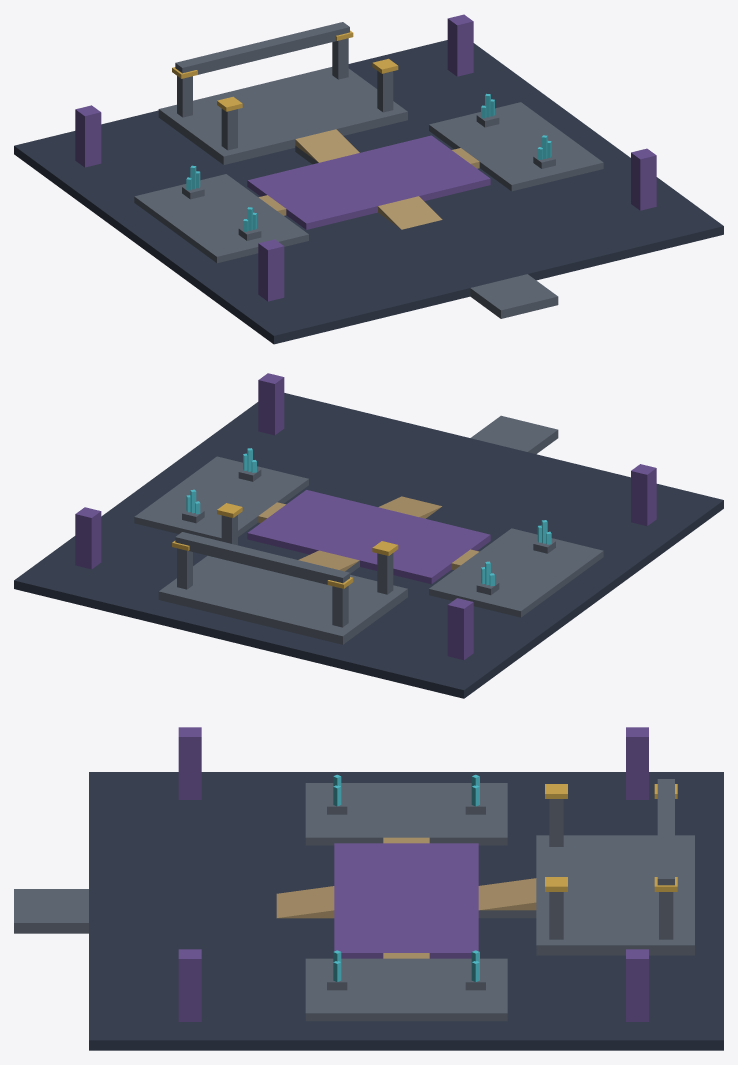
The model's file is Ashen.glb.
3 renders of one model, top to bottom at view 1: azimuth 30°, elevation 25°; view 2: azimuth 150°, elevation 25°; view 3: azimuth 270°, elevation 25°, orthographic. The views are drawn at different scales.
Visible parts, largest first — view 1: Island, BossSanctum, CentralSanctum, SideCourt.001, SideCourt, WardenArch, Landing, BrokenSpire, BrokenSpire.002, BrokenSpire.001, BrokenSpire.003, SanctumAscent (+5 smaller); view 2: Island, CentralSanctum, BossSanctum, SideCourt, SideCourt.001, WardenArch, Landing, BrokenSpire, BrokenSpire.002, BrokenSpire.003, BrokenSpire.001, SanctumAscent (+4 smaller); view 3: Island, CentralSanctum, BossSanctum, SideCourt.001, SideCourt, Landing, WardenArch, BrokenSpire.001, BrokenSpire.003, SanctumAscent, WardenAscent, BrokenSpire (+5 smaller).
Boxes of the visible parts, <box> form: Island: <box>14,40,723,344</box>; BossSanctum: <box>158,67,407,164</box>; CentralSanctum: <box>247,135,490,229</box>; SideCourt.001: <box>429,102,603,191</box>; SideCourt: <box>134,174,308,263</box>; WardenArch: <box>175,22,349,74</box>; Landing: <box>470,274,558,318</box>; BrokenSpire: <box>75,105,101,167</box>; BrokenSpire.002: <box>447,14,473,76</box>; BrokenSpire.001: <box>258,239,284,301</box>; BrokenSpire.003: <box>631,148,656,210</box>; SanctumAscent: <box>378,196,442,229</box>; Island: <box>14,393,723,698</box>; CentralSanctum: <box>247,490,490,584</box>; BossSanctum: <box>158,555,407,644</box>; SideCourt: <box>429,528,603,617</box>; SideCourt.001: <box>134,456,308,541</box>; WardenArch: <box>175,532,349,584</box>; Landing: <box>470,415,558,454</box>; BrokenSpire: <box>447,598,473,660</box>; BrokenSpire.002: <box>75,507,101,569</box>; BrokenSpire.003: <box>258,373,284,435</box>; BrokenSpire.001: <box>631,464,656,525</box>; SanctumAscent: <box>378,496,441,518</box>; Island: <box>89,772,723,1050</box>; CentralSanctum: <box>334,843,478,958</box>; BossSanctum: <box>536,835,694,955</box>; SideCourt.001: <box>305,958,507,1021</box>; SideCourt: <box>305,783,507,845</box>; Landing: <box>14,889,88,933</box>; WardenArch: <box>657,779,674,885</box>; BrokenSpire.001: <box>178,727,201,799</box>; BrokenSpire.003: <box>178,949,201,1021</box>; SanctumAscent: <box>276,886,334,918</box>; WardenAscent: <box>478,878,536,910</box>; BrokenSpire: <box>626,727,648,799</box>.
Size of the model in its own units: 220 by 33.5 by 246.
